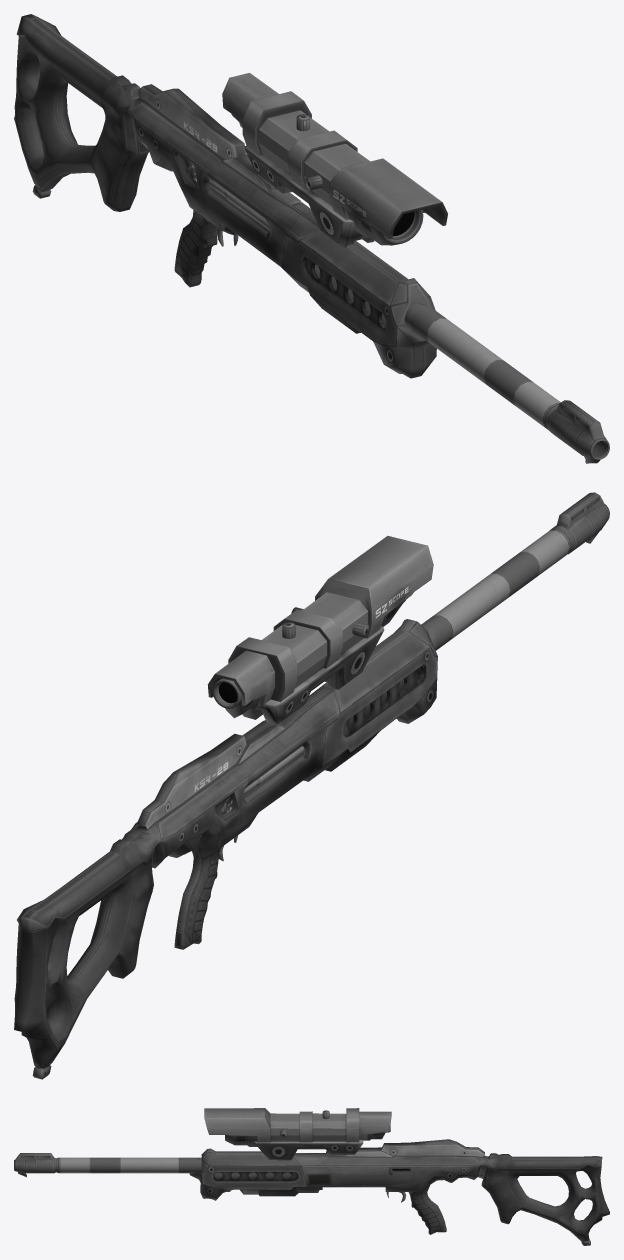
File: sniper_rifle.glb
The picture shows the model from 3 angles, top to bottom: view 1: azimuth 30°, elevation 25°; view 2: azimuth 150°, elevation 25°; view 3: azimuth 270°, elevation 25°; orthographic projection. The views are drawn at different scales.
Visible parts, largest first — view 1: rifle, scope; view 2: rifle, scope; view 3: rifle, scope.
Boxes of the visible parts, bbox=[...] form: rifle: bbox=[14, 14, 609, 463]; scope: bbox=[222, 73, 447, 247]; rifle: bbox=[14, 492, 609, 1079]; scope: bbox=[207, 535, 433, 724]; rifle: bbox=[14, 1139, 609, 1245]; scope: bbox=[204, 1108, 391, 1160].
Bounding box in the file's own units: 0.0841 × 0.2937 × 1.18.
Materials: 1 (1 with a texture image).
